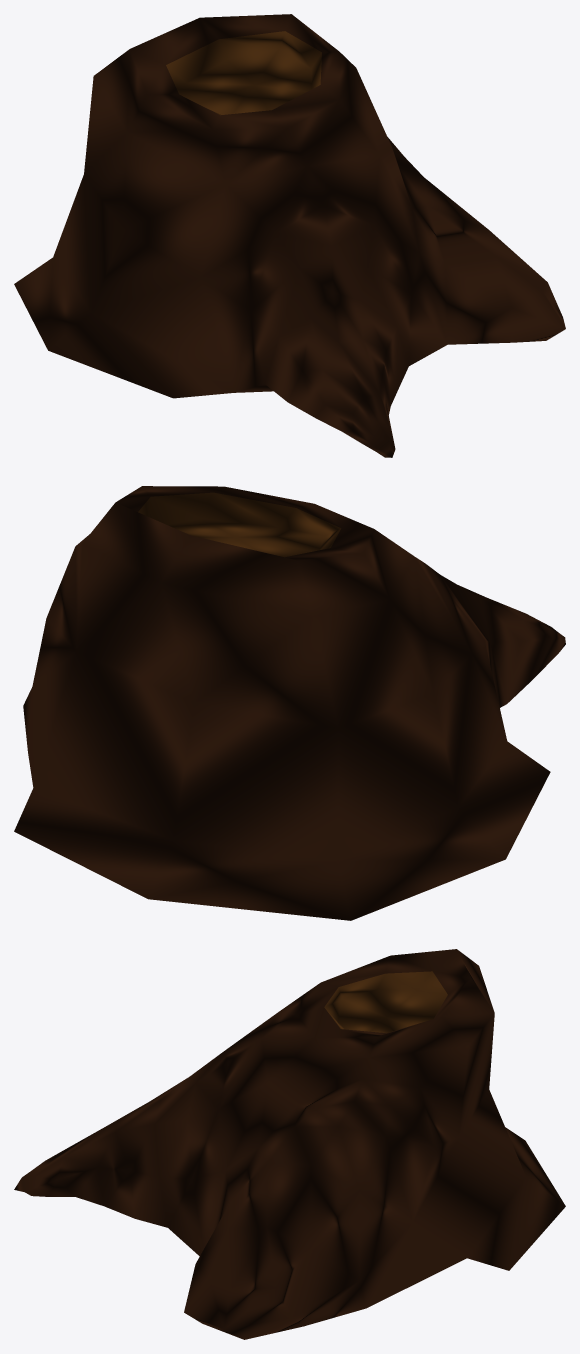
The model's file is Log_3.obj.
3 views of the same model, one above another, from view 1: azimuth 30°, elevation 25°; view 2: azimuth 150°, elevation 25°; view 3: azimuth 270°, elevation 25° (orthographic). The views are drawn at different scales.
Visible parts, largest first — view 1: Log_3; view 2: Log_3; view 3: Log_3.
Boxes of the visible parts, x1,y1,x2,y2 form: Log_3: (14,14,565,457); Log_3: (14,486,565,920); Log_3: (14,949,565,1339).
Size of the model in its own units: 172 by 105 by 201.
